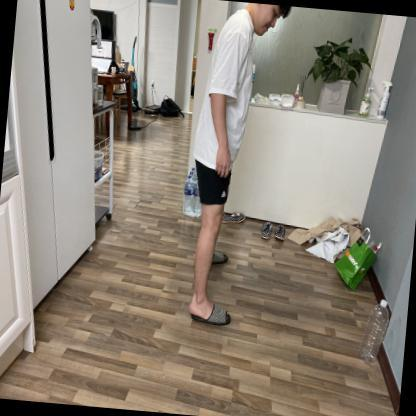no_safety-shoe: (181, 287, 237, 338)
